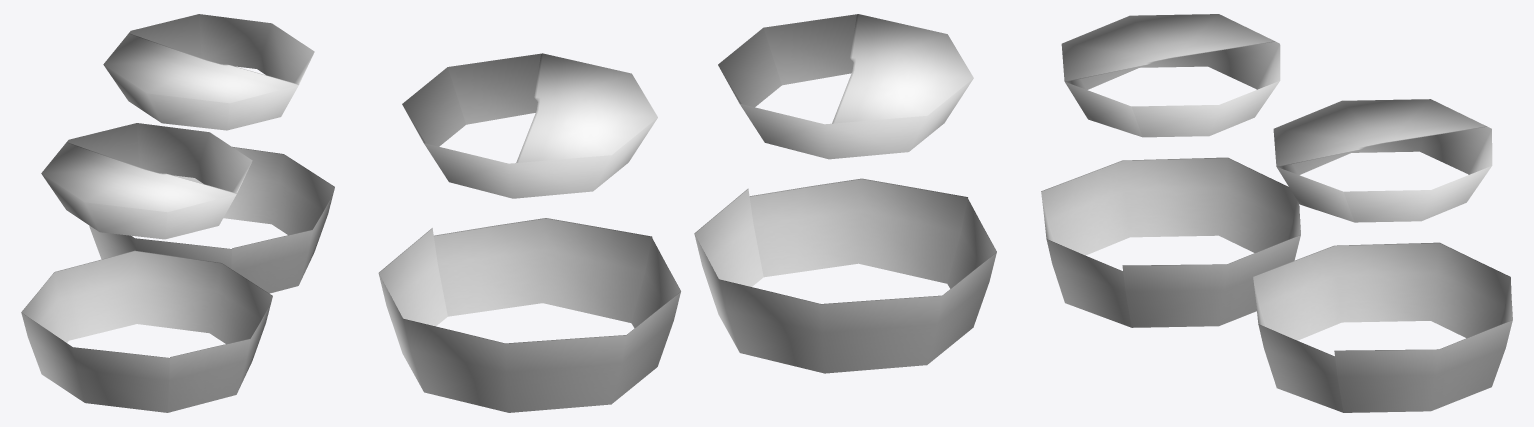
File: korean_vase_02.dae
The picture shows the model from 3 angles, left to right: view 1: azimuth 30°, elevation 25°; view 2: azimuth 150°, elevation 25°; view 3: azimuth 270°, elevation 25°; orthographic projection. The views are drawn at different scales.
Parts seen in each view (by area): view 1: korean_vase_02; view 2: korean_vase_02; view 3: korean_vase_02.
Part boxes in pixels (<box>): korean_vase_02: <box>21,14,334,412</box>; korean_vase_02: <box>378,14,996,412</box>; korean_vase_02: <box>1041,14,1512,412</box>.
Bounding box in the file's own units: 2.24 × 2.29 × 1.15.
